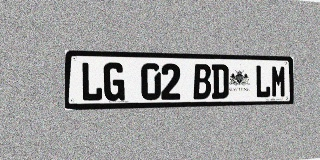0: (141, 63, 161, 100)
2: (161, 63, 180, 100)
B: (193, 64, 211, 99)
D: (212, 64, 229, 99)
G: (104, 62, 125, 101)
L: (81, 62, 103, 101), (255, 65, 271, 98)
M: (271, 65, 286, 98)
